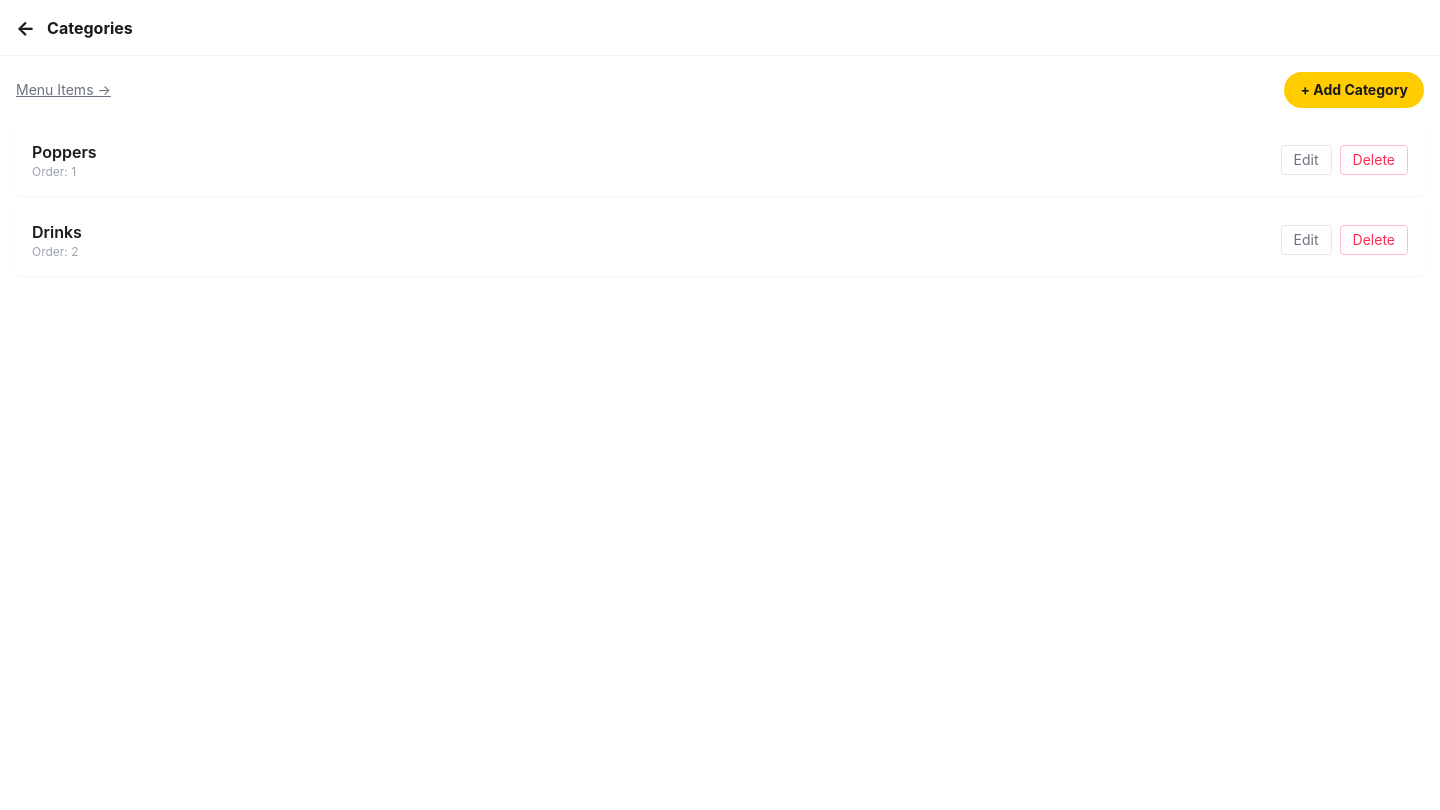
Categories › opens new category form when Add Category clicked
Expected: the text "Poppers" is shown, [32,140,96,164]
Click the button "+ Add Category". click: (1354, 90)
box: [1284,72,1424,108]
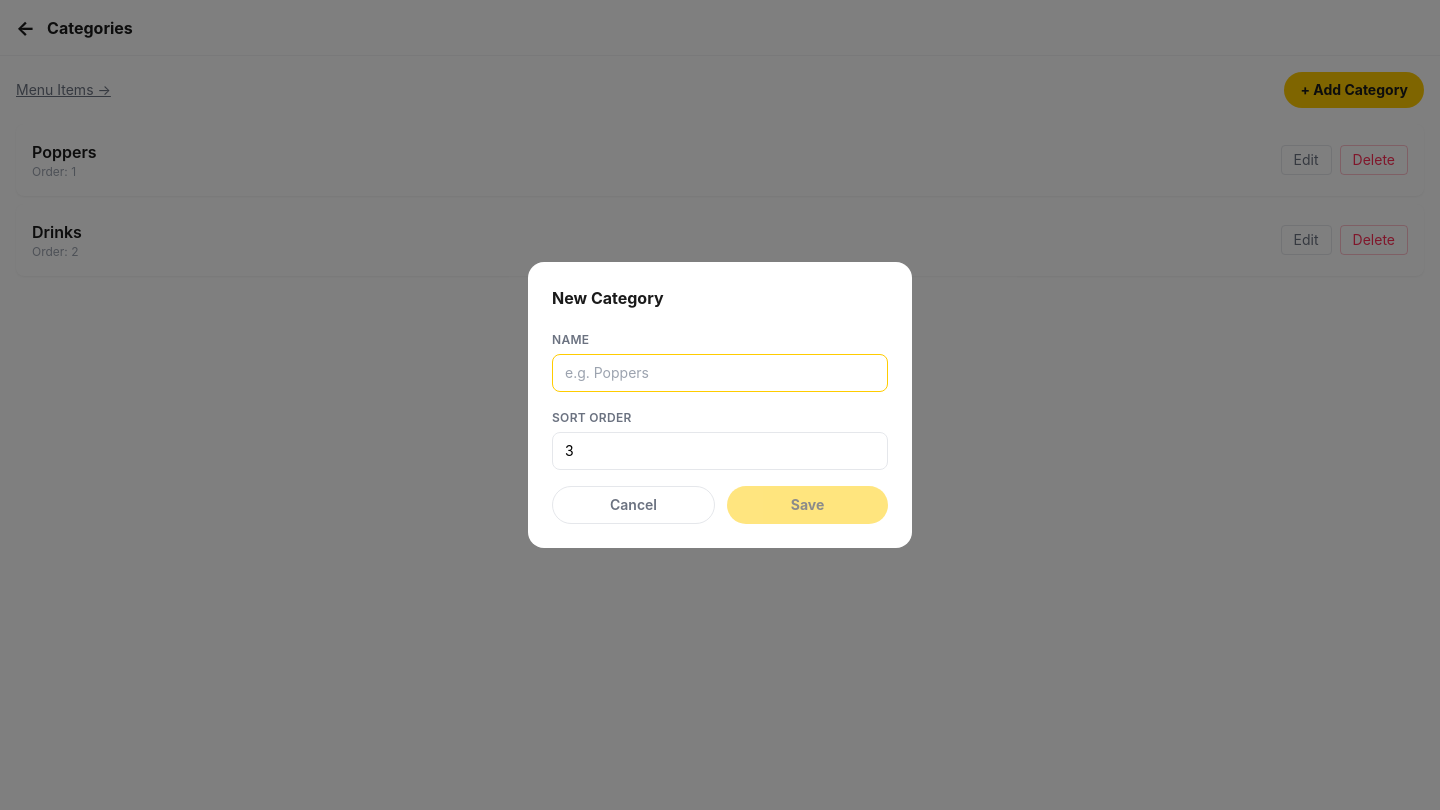
Expected: the heading "New Category" is shown, [552,288,664,308]
